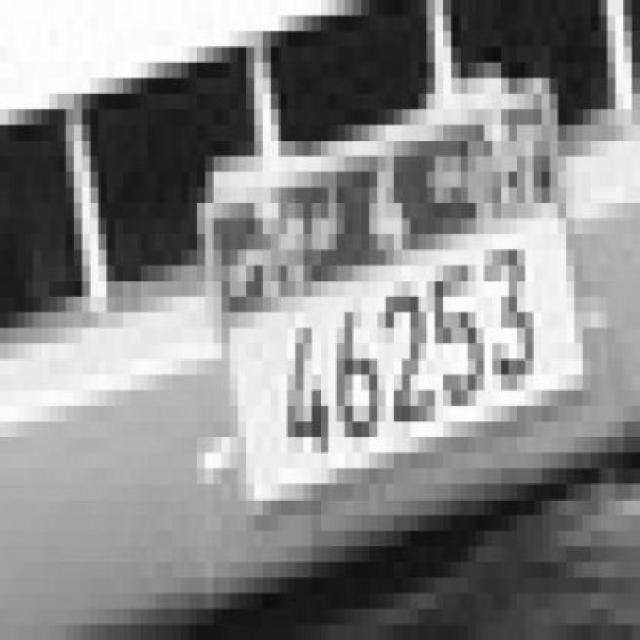licenseplate: (198, 145, 607, 486)
